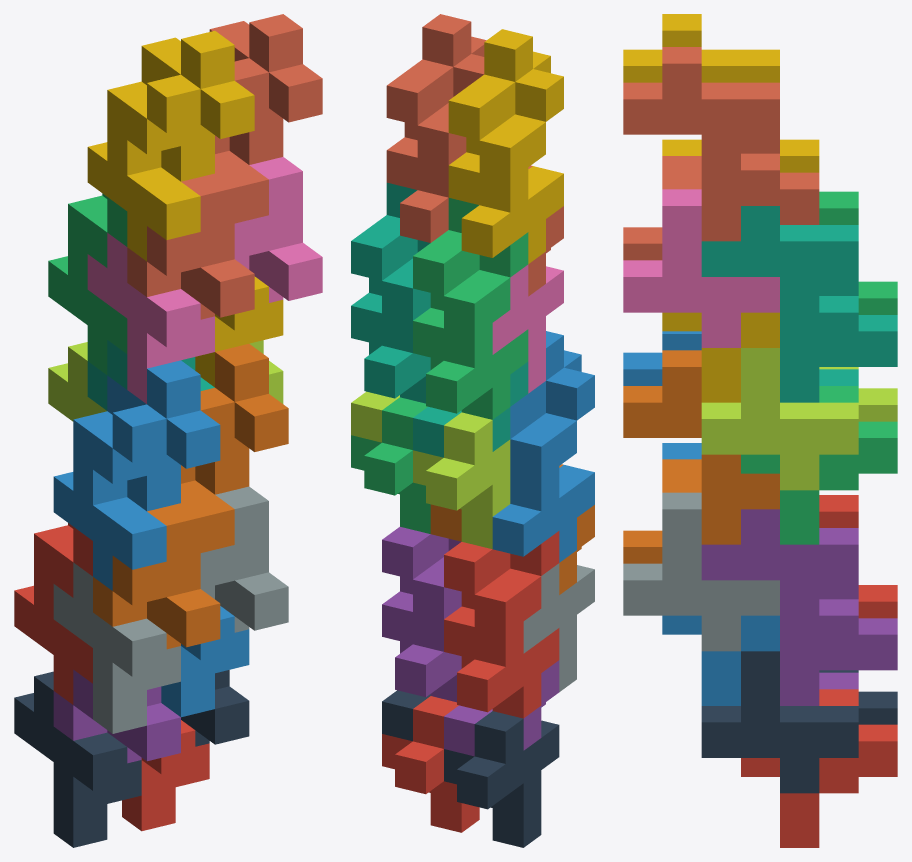
File: tiling.obj
3 views of the same model, side by side, from view 1: azimuth 30°, elevation 25°; view 2: azimuth 150°, elevation 25°; view 3: azimuth 270°, elevation 25° (orthographic). The views are drawn at different scales.
Visible parts, largest first — view 1: copy_4_domain_4, copy_4_domain_2, copy_2_domain_1, copy_3_domain_2, copy_3_domain_4, copy_2_domain_2, copy_4_domain_8, copy_1_domain_4, copy_1_domain_2, copy_2_domain_4, copy_4_domain_6, copy_3_domain_6 (+15 smaller); view 2: copy_1_domain_1, copy_1_domain_4, copy_1_domain_3, copy_2_domain_1, copy_4_domain_4, copy_1_domain_2, copy_2_domain_3, copy_1_domain_5, copy_1_domain_7, copy_4_domain_8, copy_1_domain_8, copy_4_domain_3 (+15 smaller); view 3: copy_4_domain_8, copy_3_domain_7, copy_3_domain_5, copy_3_domain_6, copy_3_domain_8, copy_4_domain_7, copy_4_domain_5, copy_1_domain_5, copy_1_domain_7, copy_4_domain_6, copy_2_domain_7, copy_2_domain_5 (+18 smaller).
Part boxes in pixels (x1,y1,x2,y2): copy_4_domain_4: (127,30,254,181); copy_4_domain_2: (93,360,220,511); copy_2_domain_1: (14,671,141,847); copy_3_domain_2: (93,503,220,649); copy_3_domain_4: (127,173,254,319); copy_2_domain_2: (53,562,180,733); copy_4_domain_8: (209,14,322,164); copy_1_domain_4: (87,81,200,261); copy_1_domain_2: (53,411,166,590); copy_2_domain_4: (87,233,214,403); copy_4_domain_6: (181,344,288,494); copy_3_domain_6: (200,486,288,632); copy_1_domain_1: (444,581,559,718); copy_1_domain_4: (448,127,563,263); copy_1_domain_3: (413,283,528,419); copy_2_domain_1: (444,711,559,847); copy_4_domain_4: (448,29,563,166); copy_1_domain_2: (492,426,594,562); copy_2_domain_3: (413,412,510,549); copy_1_domain_5: (382,566,461,702); copy_1_domain_7: (351,268,430,403); copy_4_domain_8: (386,14,486,140); copy_1_domain_8: (386,112,466,242); copy_4_domain_3: (413,198,528,322); copy_4_domain_8: (623,47,779,205); copy_3_domain_7: (701,348,858,490); copy_3_domain_5: (701,651,858,793); copy_3_domain_6: (623,492,779,651); copy_3_domain_8: (623,189,779,347); copy_4_domain_7: (701,206,858,347); copy_4_domain_5: (701,509,858,651); copy_1_domain_5: (780,580,897,705); copy_1_domain_7: (780,277,897,402); copy_4_domain_6: (623,350,740,509); copy_2_domain_7: (741,386,897,544); copy_2_domain_5: (741,689,897,847).
Size of the model in its own units: 5 by 23 by 7.
